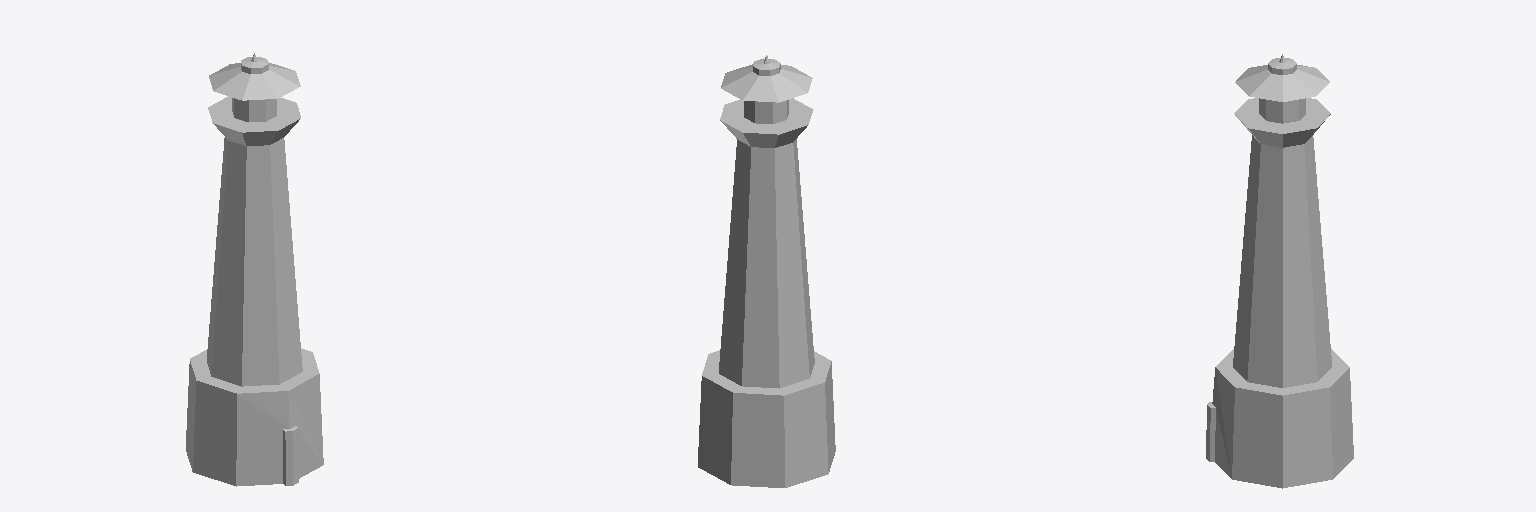
Rendered from lightHouse.obj.
The picture shows the model from 3 angles: view 1: azimuth 30°, elevation 25°; view 2: azimuth 150°, elevation 25°; view 3: azimuth 270°, elevation 25°; orthographic projection.
Visible parts, largest first — view 1: lightHouse_Cylinder.010; view 2: lightHouse_Cylinder.010; view 3: lightHouse_Cylinder.010.
Boxes of the visible parts, x1,y1,x2,y2 form: lightHouse_Cylinder.010: [186, 53, 323, 486]; lightHouse_Cylinder.010: [698, 55, 835, 487]; lightHouse_Cylinder.010: [1206, 54, 1353, 488].
Bounding box in the file's own units: 16.19 × 50.58 × 16.78.